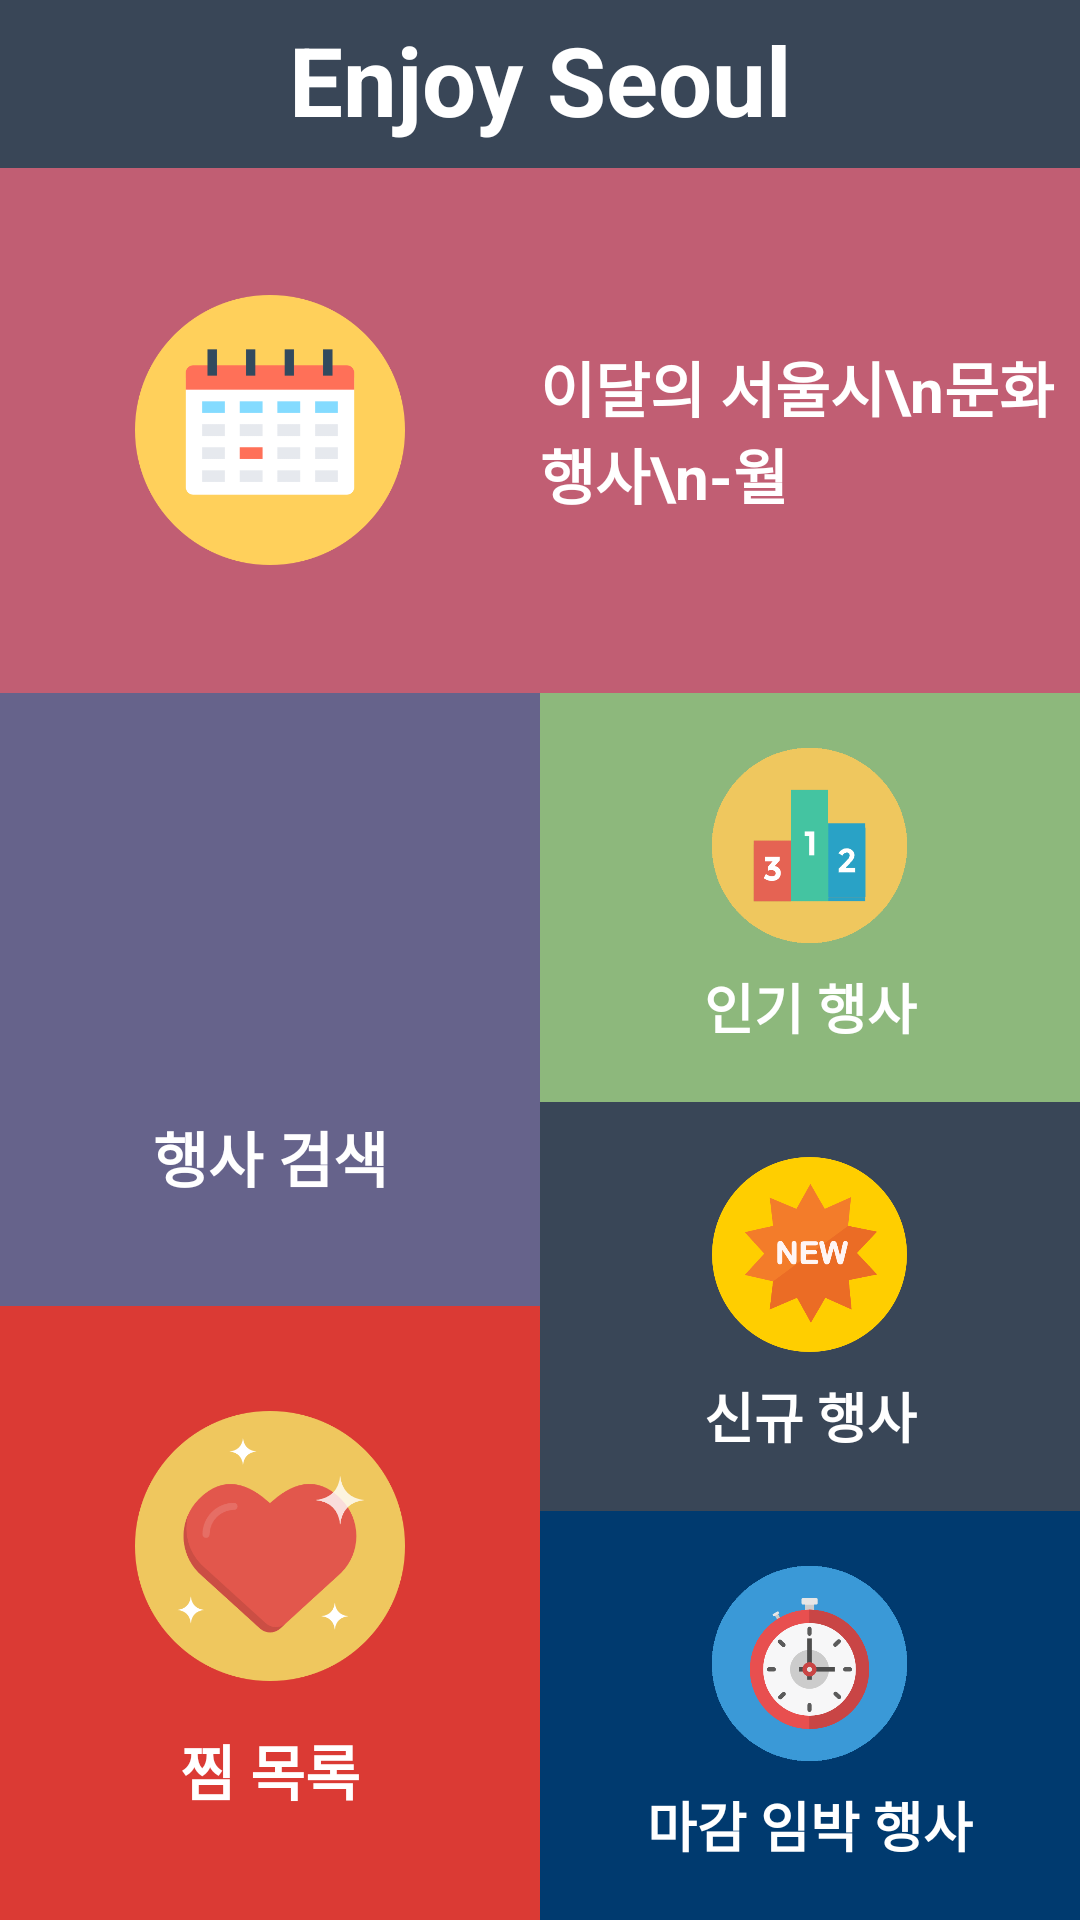

Locate icon controls on the screen. Image size 1080 × 1920, boxes as (x1, y1, x2, y2).
monthly event: (135, 295, 405, 565)
watch: (712, 1566, 907, 1761)
